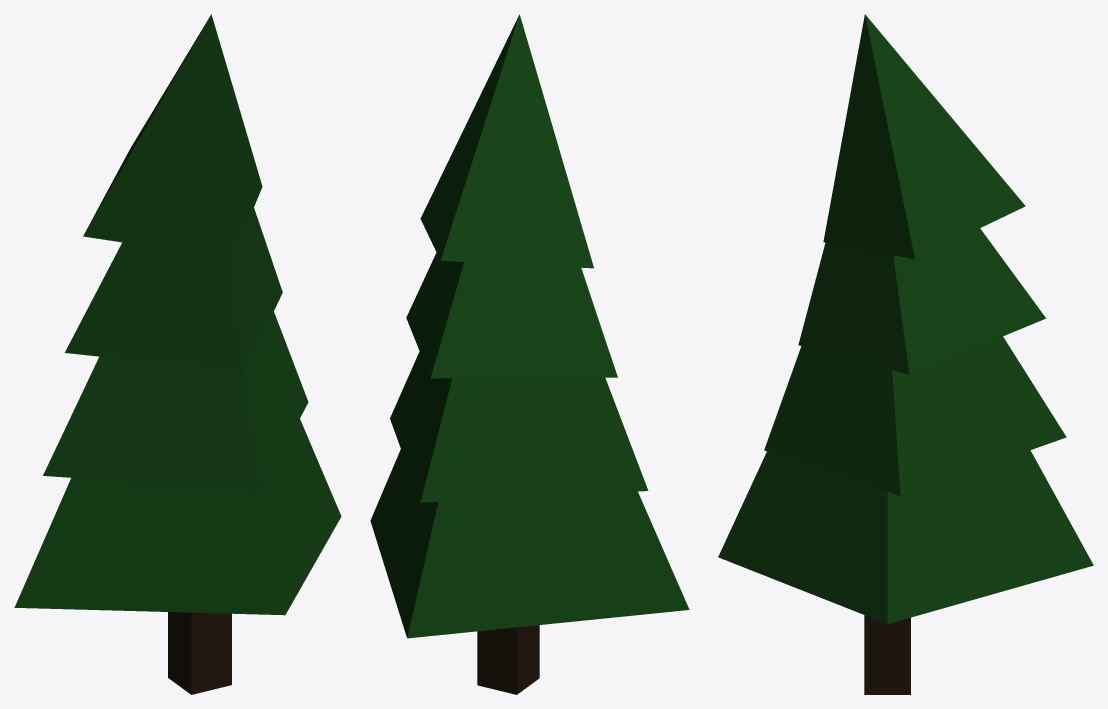
Rendered from lowpolytree.fbx.
3 views of the same model, side by side, from view 1: azimuth 30°, elevation 25°; view 2: azimuth 150°, elevation 25°; view 3: azimuth 270°, elevation 25° (orthographic). The views are drawn at different scales.
Parts seen in each view (by area): view 1: merge1; view 2: merge1; view 3: merge1.
Boxes of the visible parts, x1=… form: merge1: x1=14, y1=14, x2=341, y2=694; merge1: x1=370, y1=14, x2=689, y2=694; merge1: x1=718, y1=14, x2=1093, y2=694.
Bounding box in the file's own units: 0.8073 × 1.59 × 0.8091.
